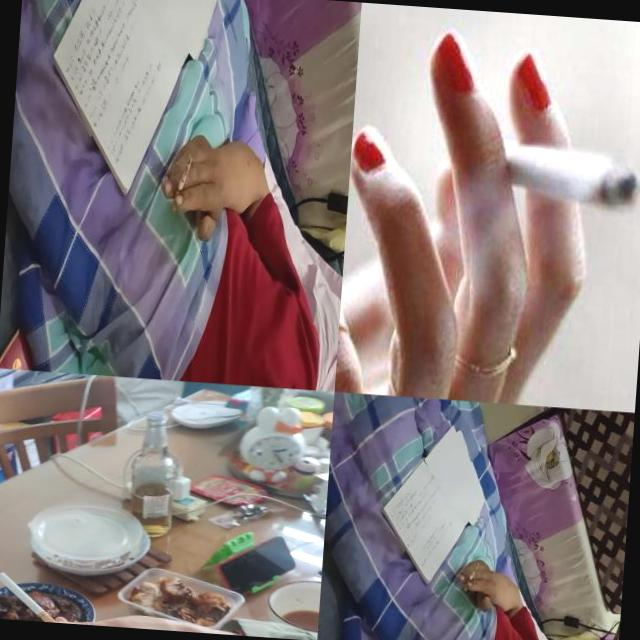cigarette: (475, 128, 640, 228), (0, 570, 69, 623), (170, 154, 192, 212), (462, 561, 480, 592)
